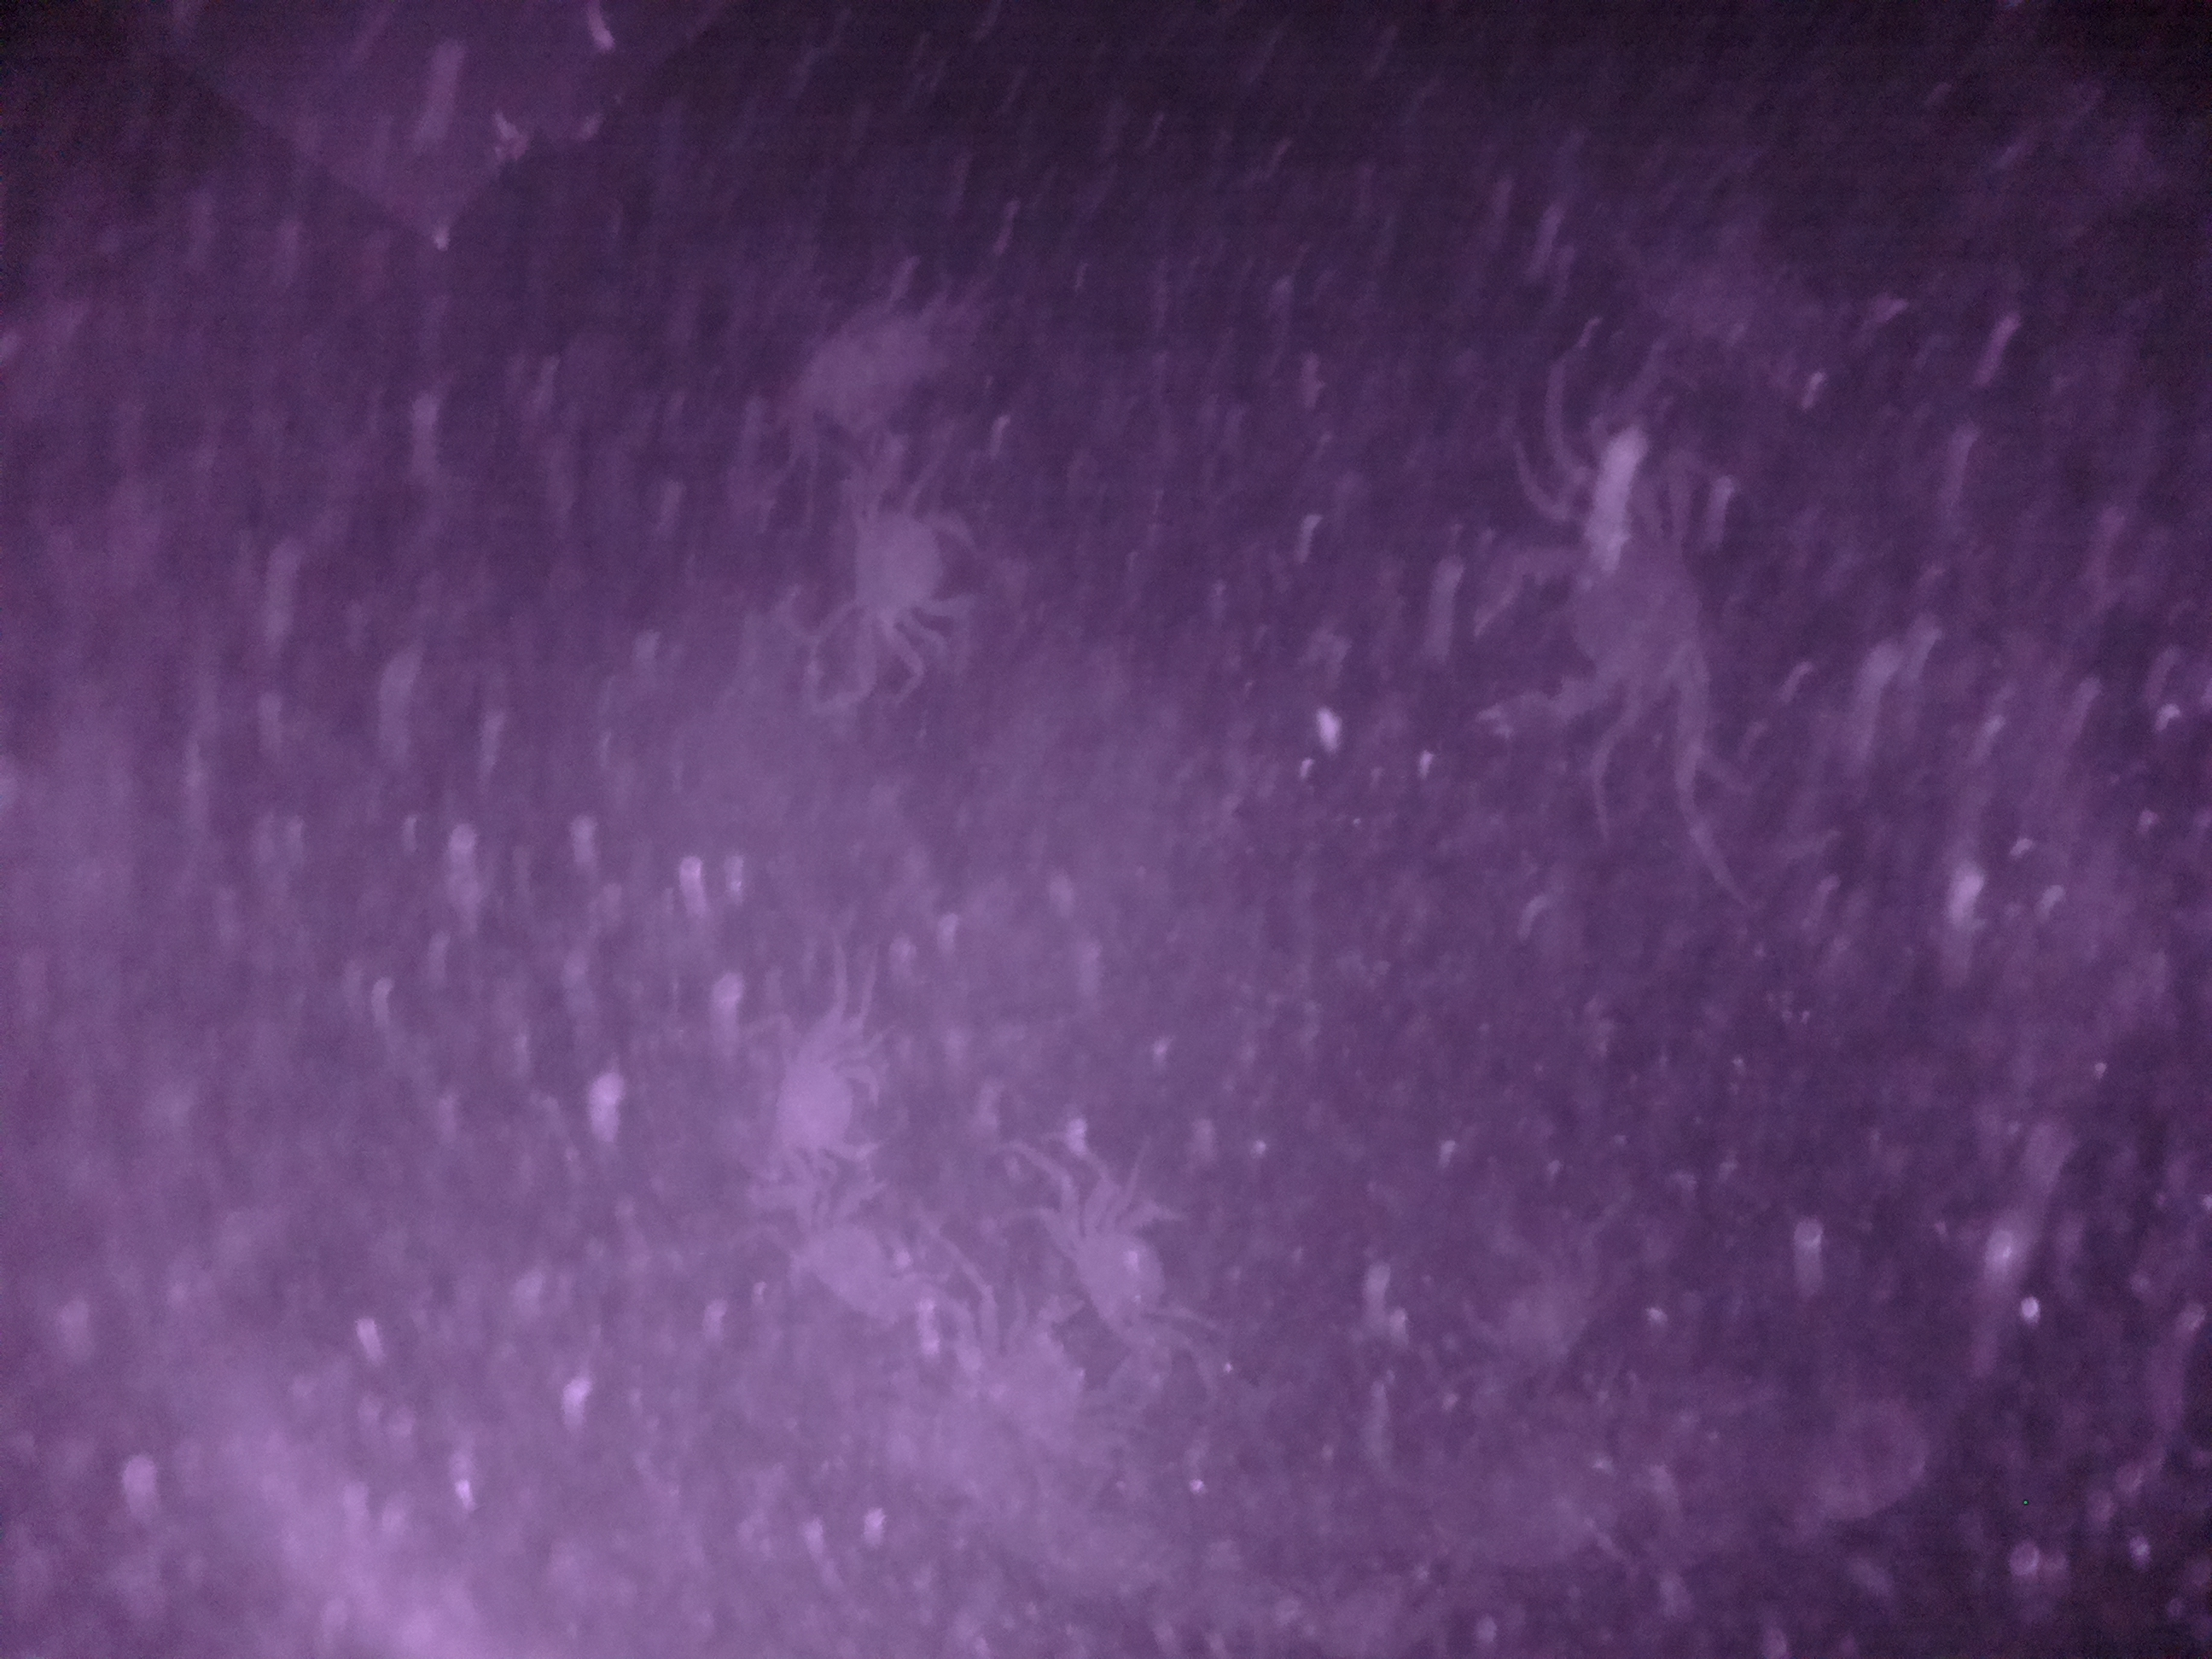Crab: (1439, 500, 1730, 765), (1036, 1141, 1212, 1366), (810, 467, 993, 674), (754, 1011, 894, 1190)
